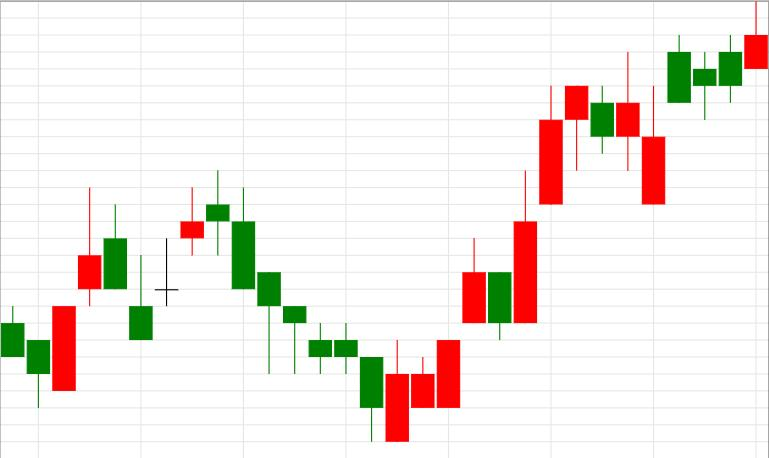bullish_engulfing_rise: (207, 170, 409, 442)
hanging_man_fall: (412, 86, 589, 408)
